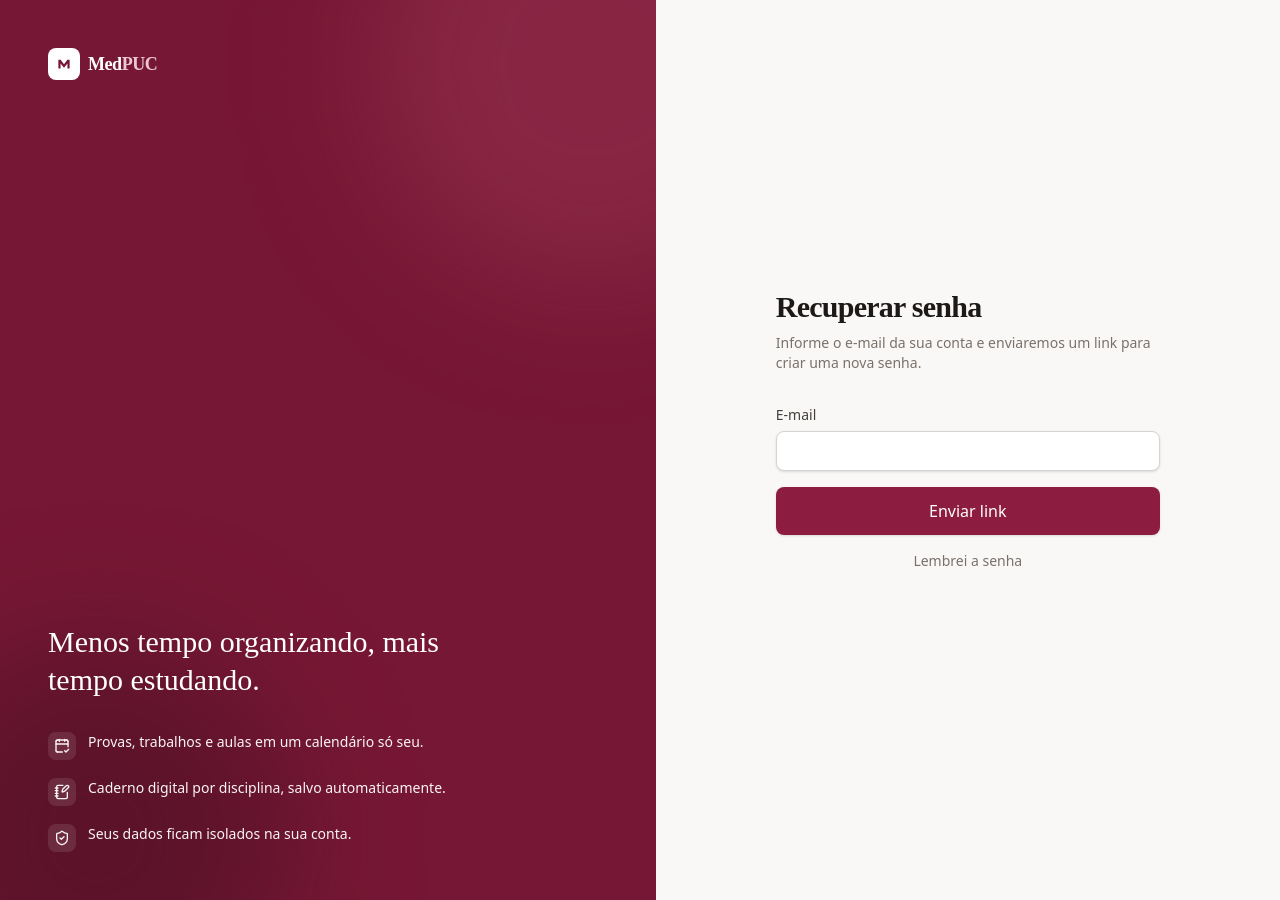
Test case: recuperação de senha › confirma o envio sem revelar se a conta existe
The image size is (1280, 900).
Step 1. Type "quem@pucpr.edu.br" into the field labelled "E-mail" → x=968, y=451, box [776,431,1160,471]
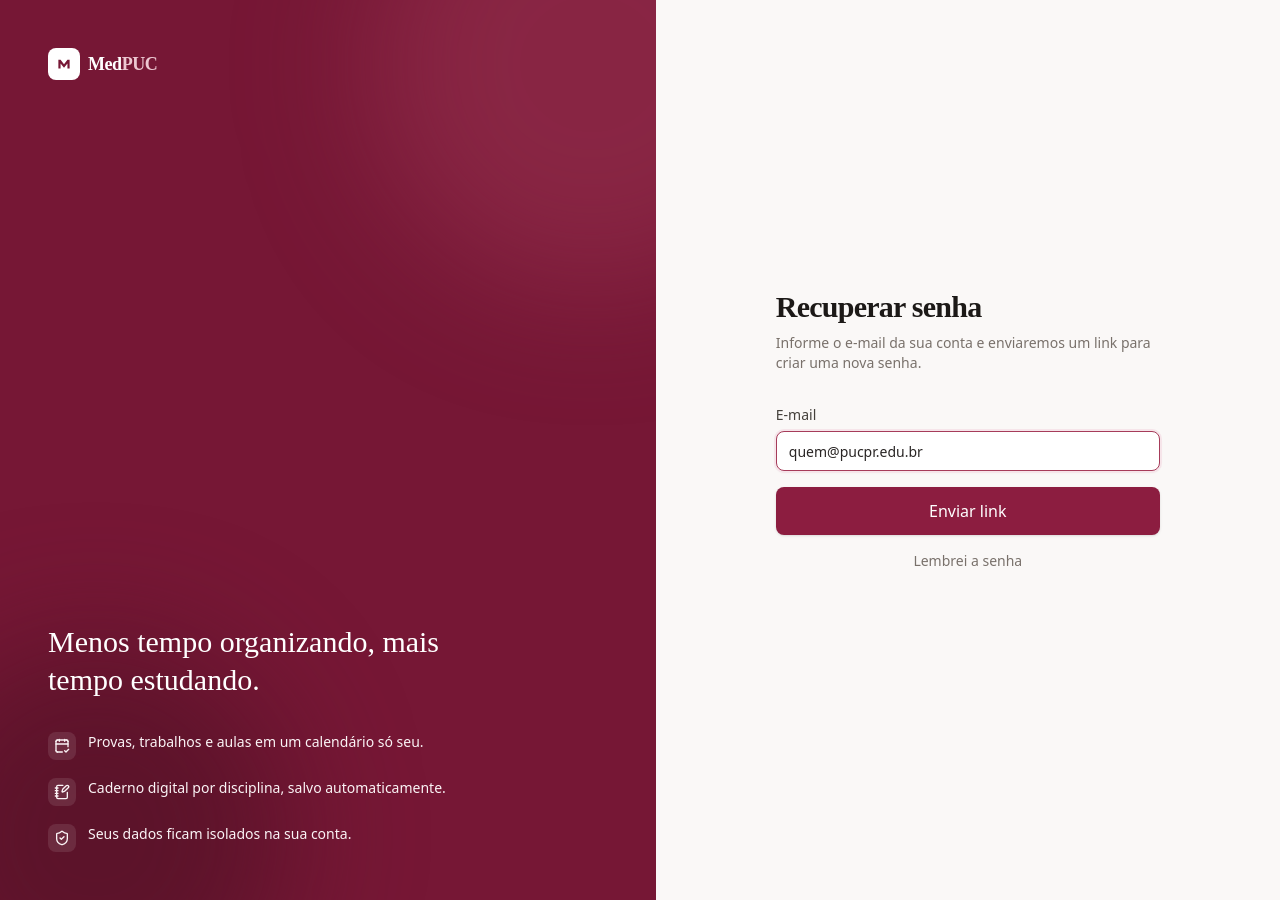
Step 2. Click the button "Enviar link" → x=968, y=511, box [776,487,1160,535]
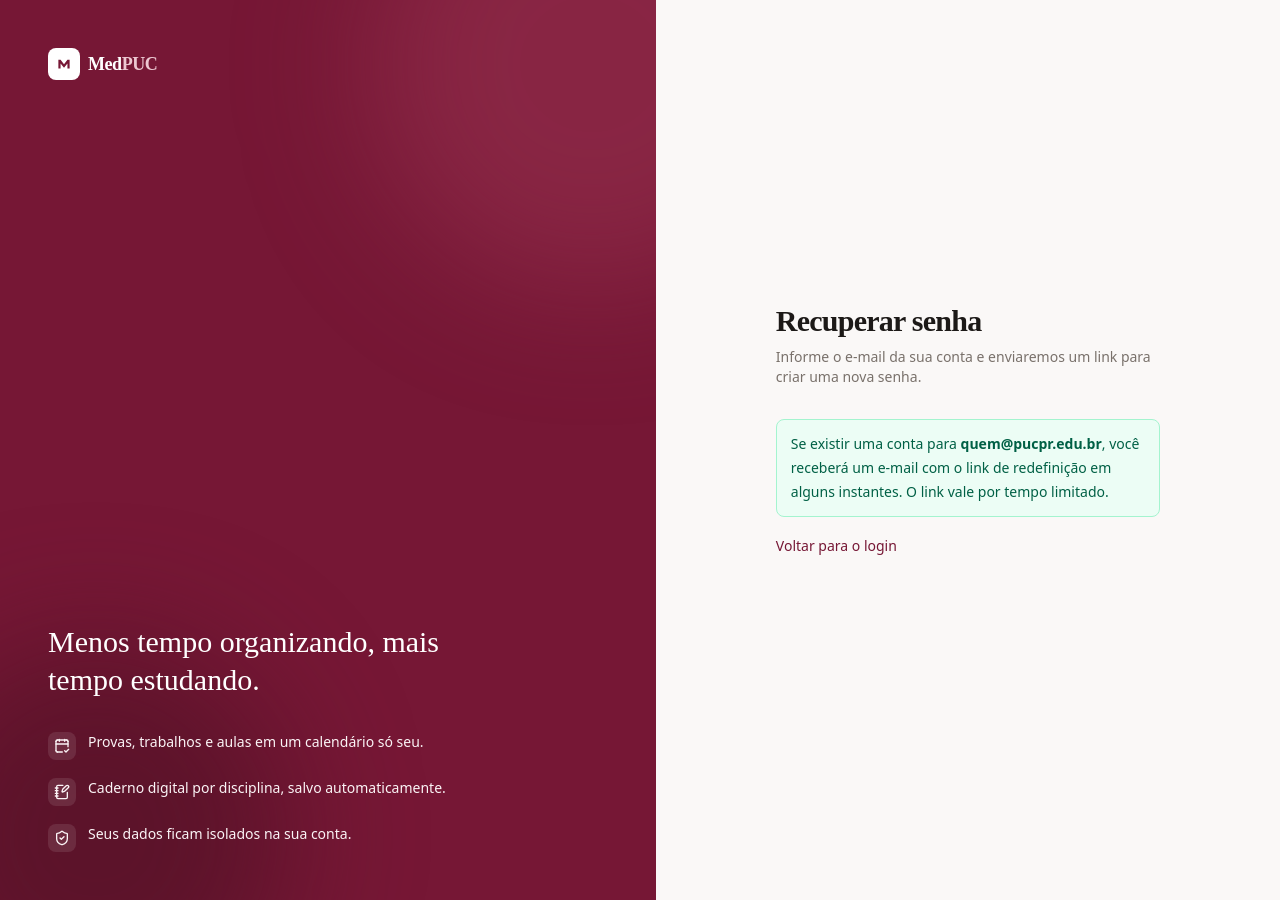
Result: the text "Se existir uma conta" is shown at [791,434,961,453]
